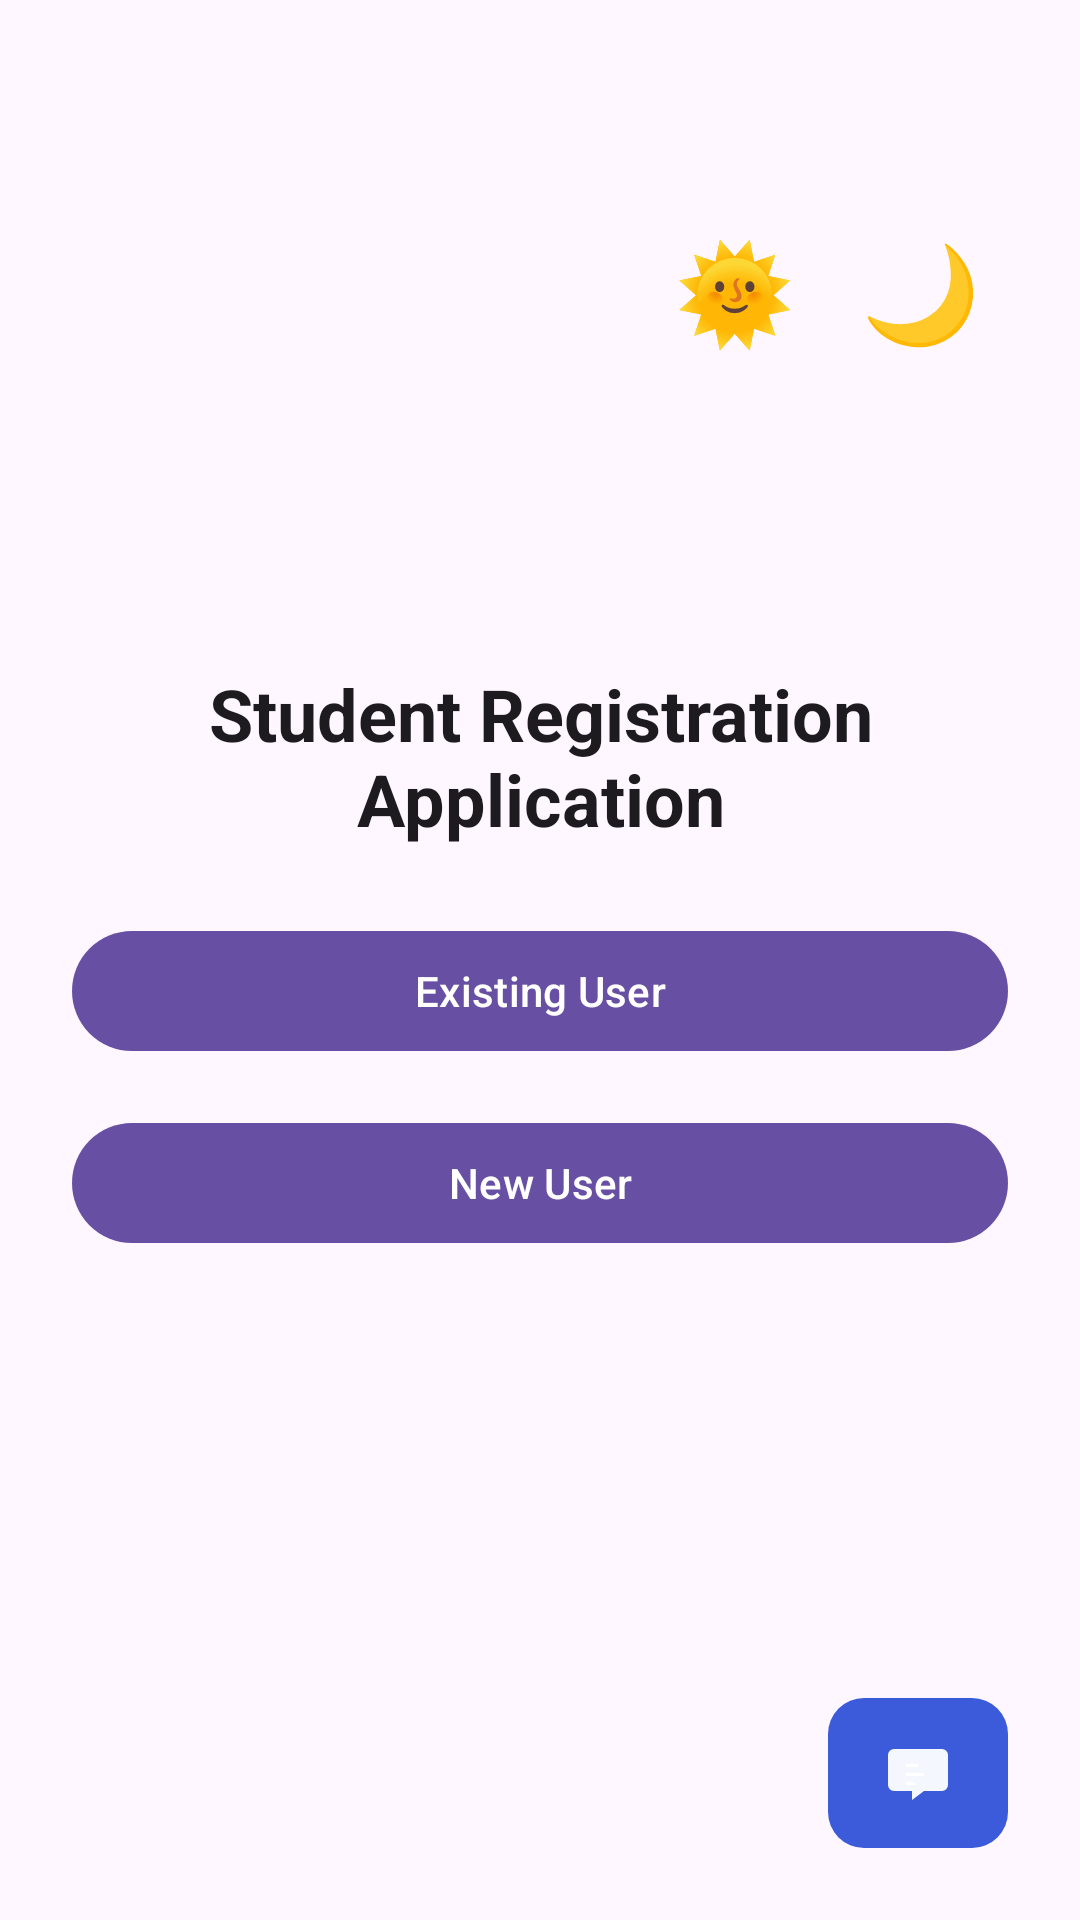

Where icons sit on this 1080x1920 app screen, as (x1, y1, x2, y2):
faq chat: (888, 1749, 948, 1800)
